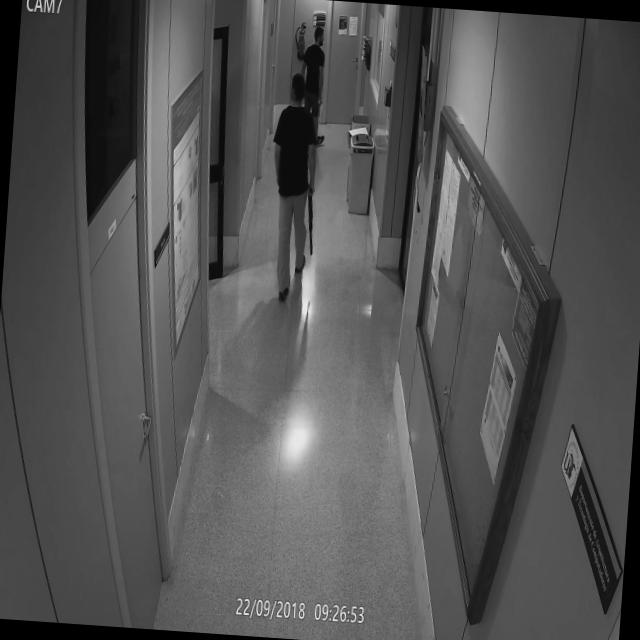gun: (301, 180, 320, 260), (312, 94, 324, 125)
person with a gun: (264, 68, 323, 303), (296, 18, 334, 151)
